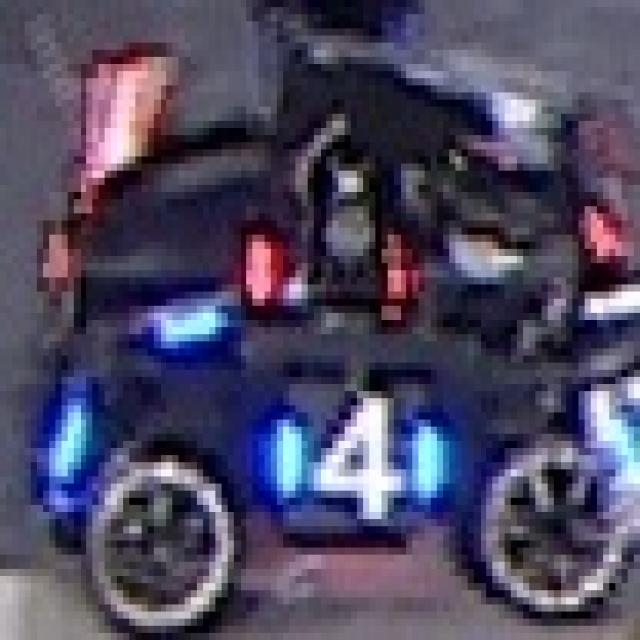B4: (234, 388, 468, 544)
